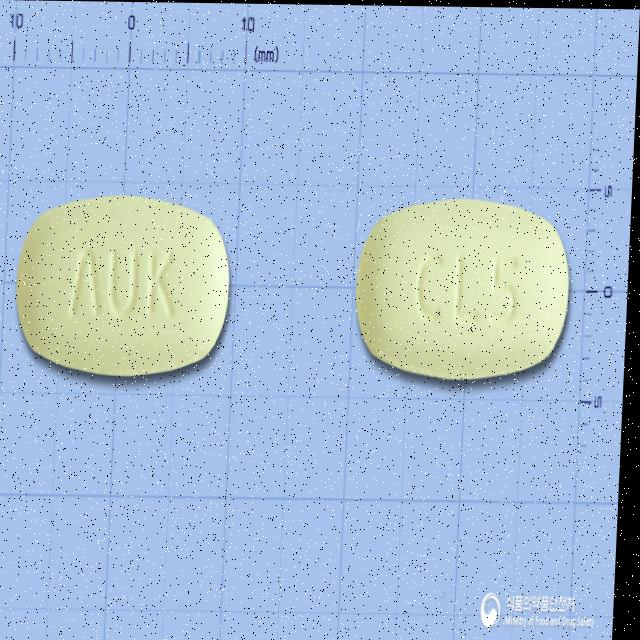Auscle: (14, 189, 239, 389)
